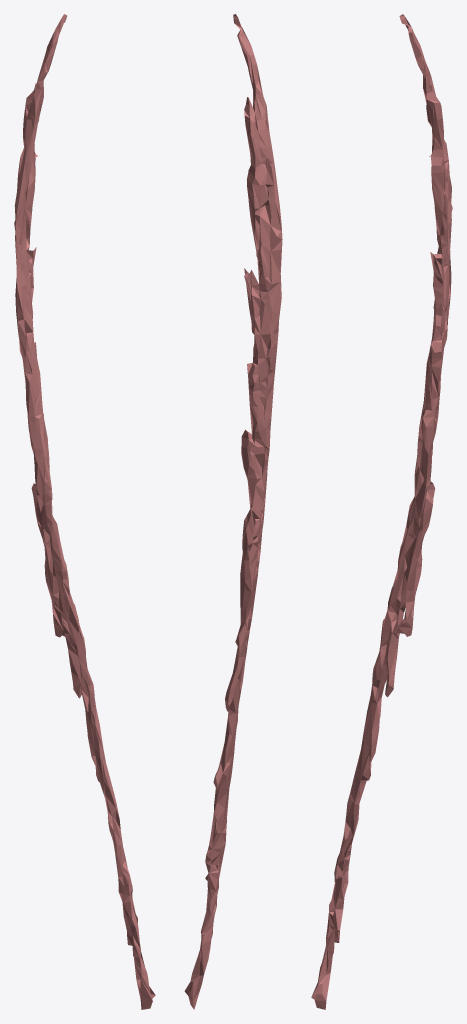
Rendered from Spinalis_thoracis_muscle.r.glb.
3 views of the same model, side by side, from view 1: azimuth 90°, elevation 25°; view 2: azimuth 210°, elevation 25°; view 3: azimuth 270°, elevation 25° (orthographic). The views are drawn at different scales.
Visible parts, largest first — view 1: Spinalis_thoracis_muscle.r; view 2: Spinalis_thoracis_muscle.r; view 3: Spinalis_thoracis_muscle.r.
Boxes of the visible parts, x1,y1,x2,y2 form: Spinalis_thoracis_muscle.r: (14,14,155,1009); Spinalis_thoracis_muscle.r: (184,14,282,1009); Spinalis_thoracis_muscle.r: (311,14,452,1009).
Bounding box in the file's own units: 0.0119 × 0.3763 × 0.0485.
